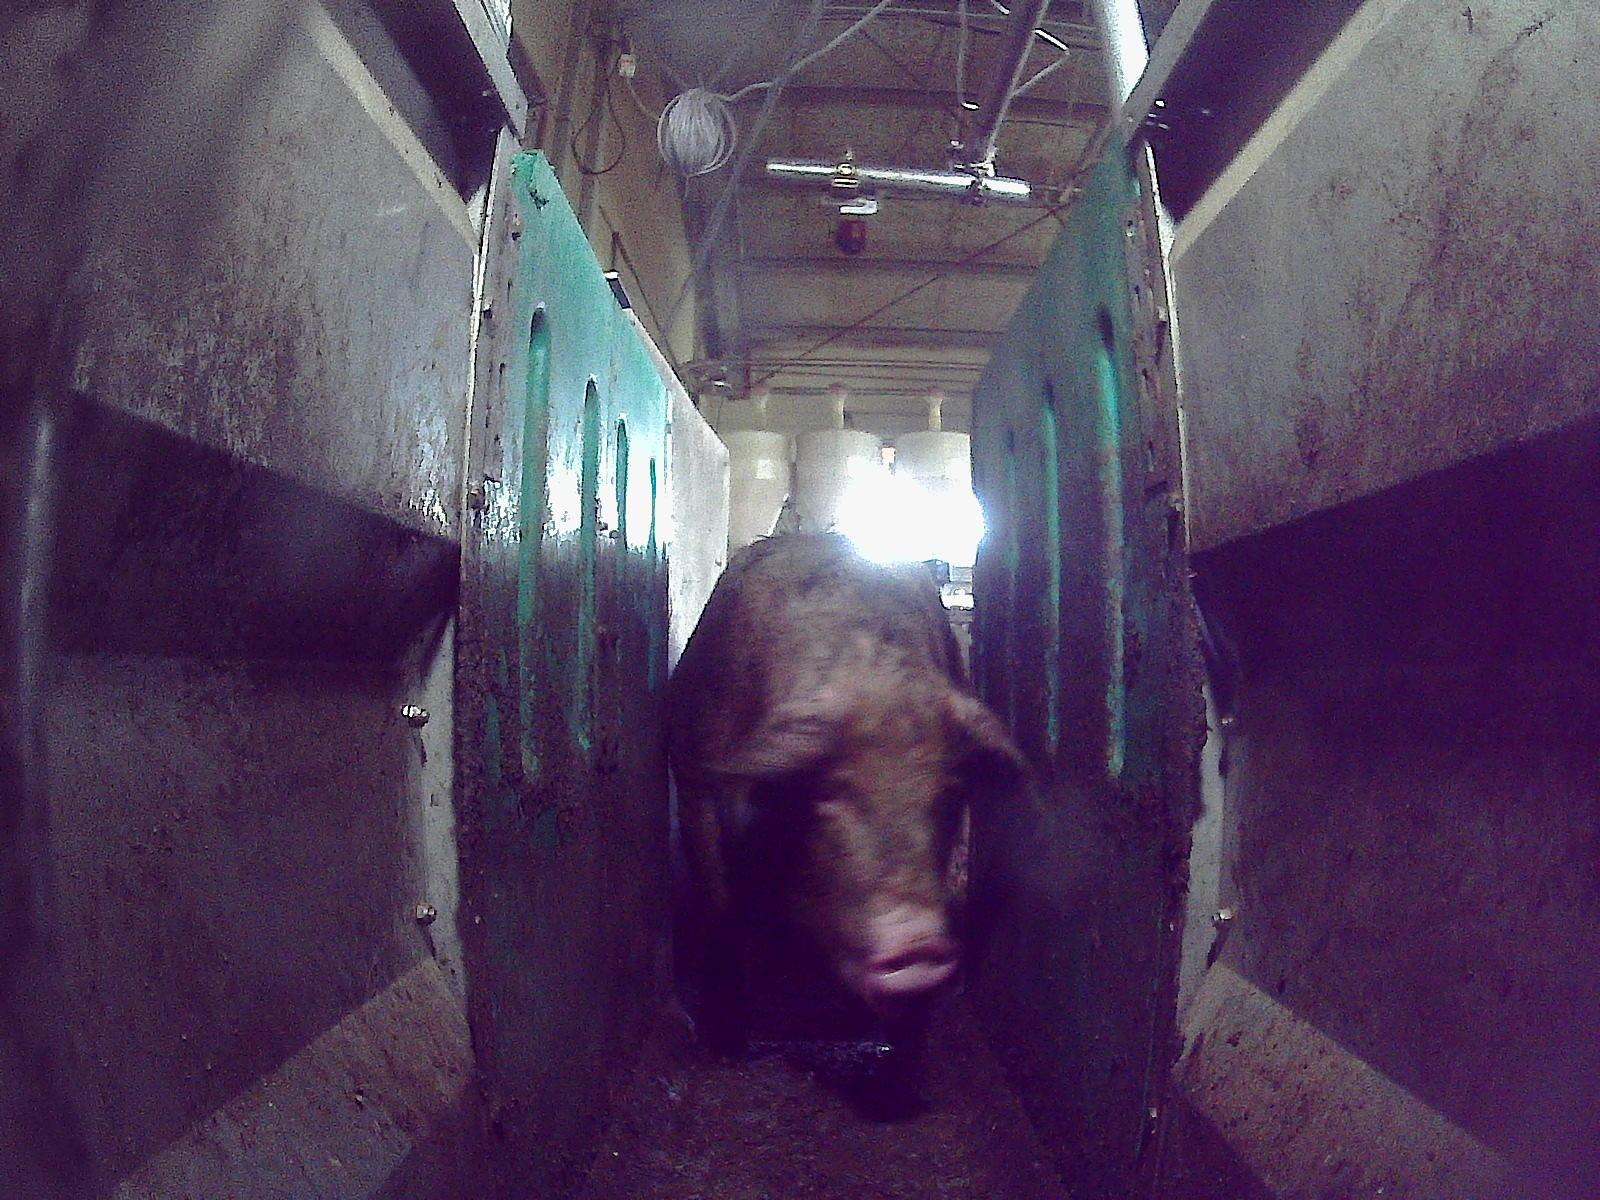Face: (749, 664, 963, 999)
